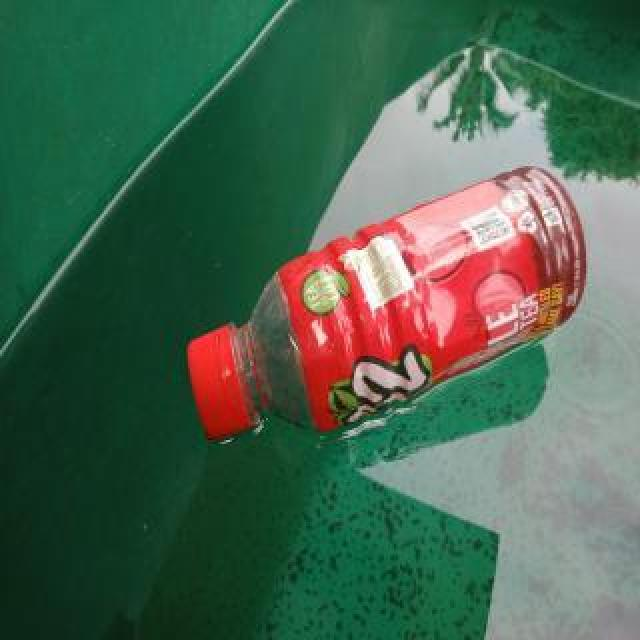bottle: (188, 163, 586, 443)
